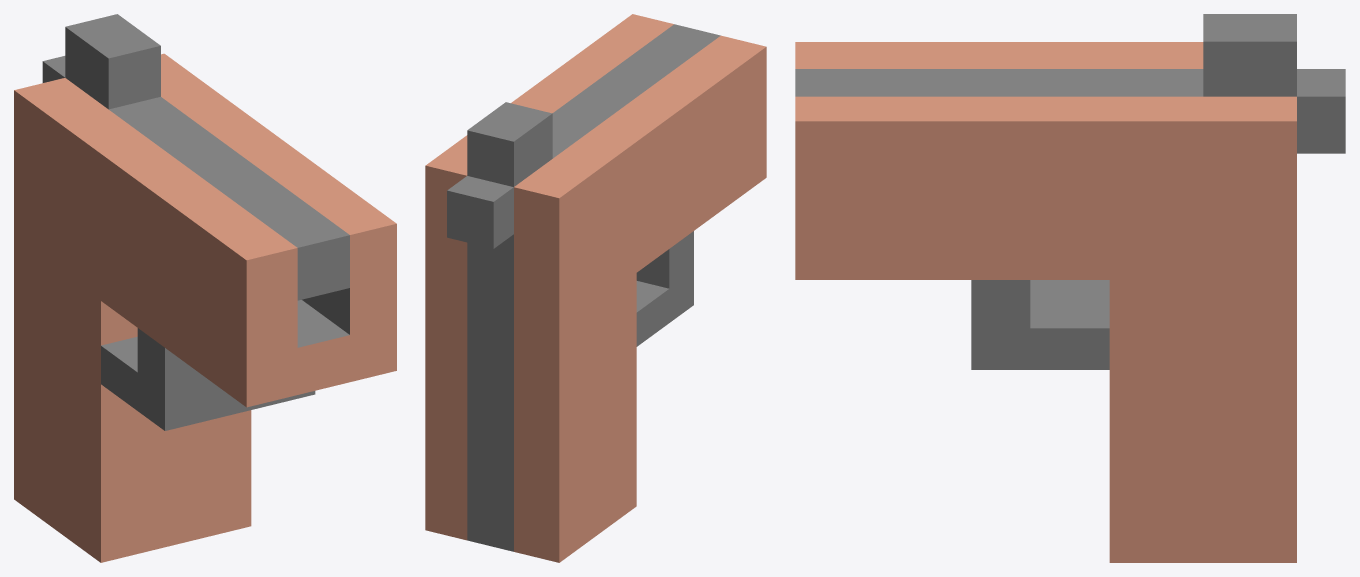
File: gun1.fbx
The picture shows the model from 3 angles, left to right: view 1: azimuth 30°, elevation 25°; view 2: azimuth 150°, elevation 25°; view 3: azimuth 270°, elevation 25°; orthographic projection. The views are drawn at different scales.
Parts seen in each view (by area): view 1: Cube; view 2: Cube; view 3: Cube.
Part boxes in pixels (<box>): Cube: <box>14,14,396,562</box>; Cube: <box>425,14,766,562</box>; Cube: <box>795,14,1345,562</box>.
Bounding box in the file's own units: 0.6 × 1.76 × 1.76.
